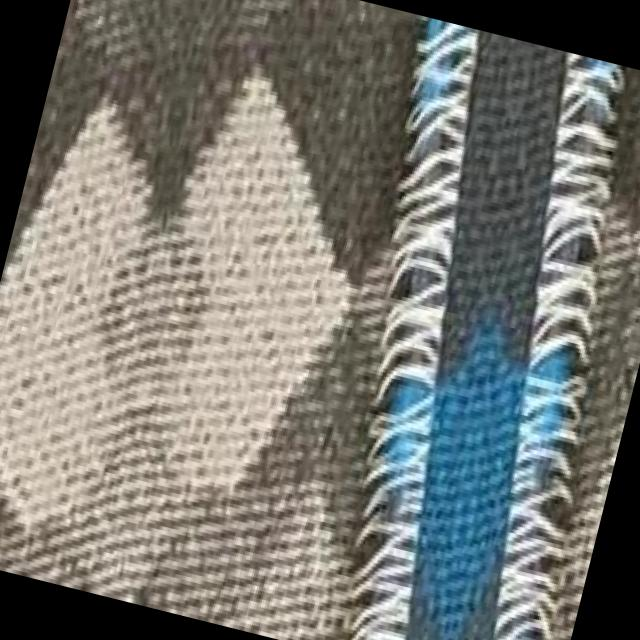gray stitch: (271, 20, 555, 640), (415, 56, 640, 640)
